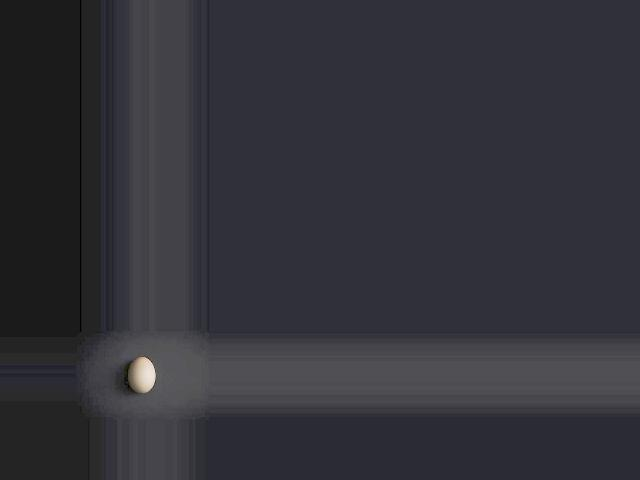egg: (129, 356, 156, 394)
